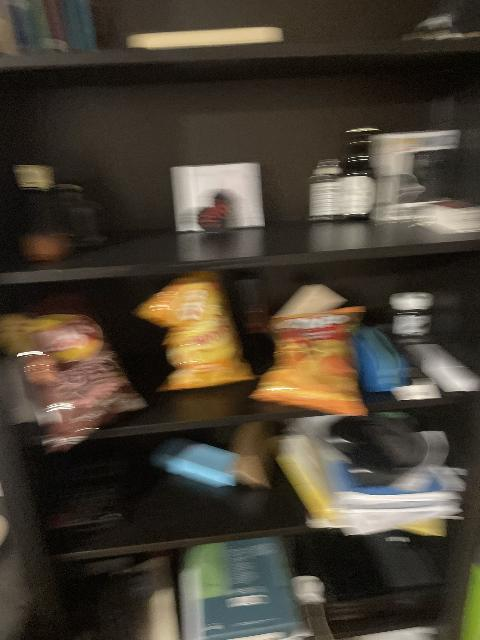Chio Cascaval 125g: (254, 305, 370, 419)
Chio Hula Hoops Cheese 70g: (130, 273, 256, 392)
Lays Beef Grilled Ribs 125g: (1, 307, 150, 449)
